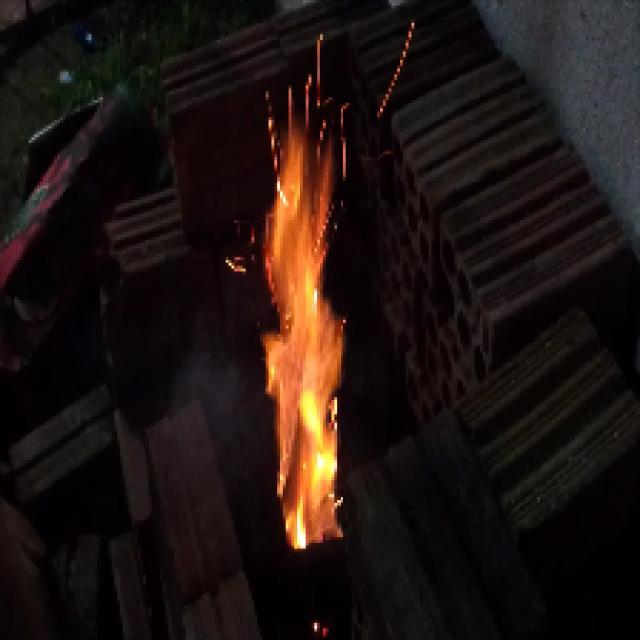Fire: (251, 133, 360, 540)
